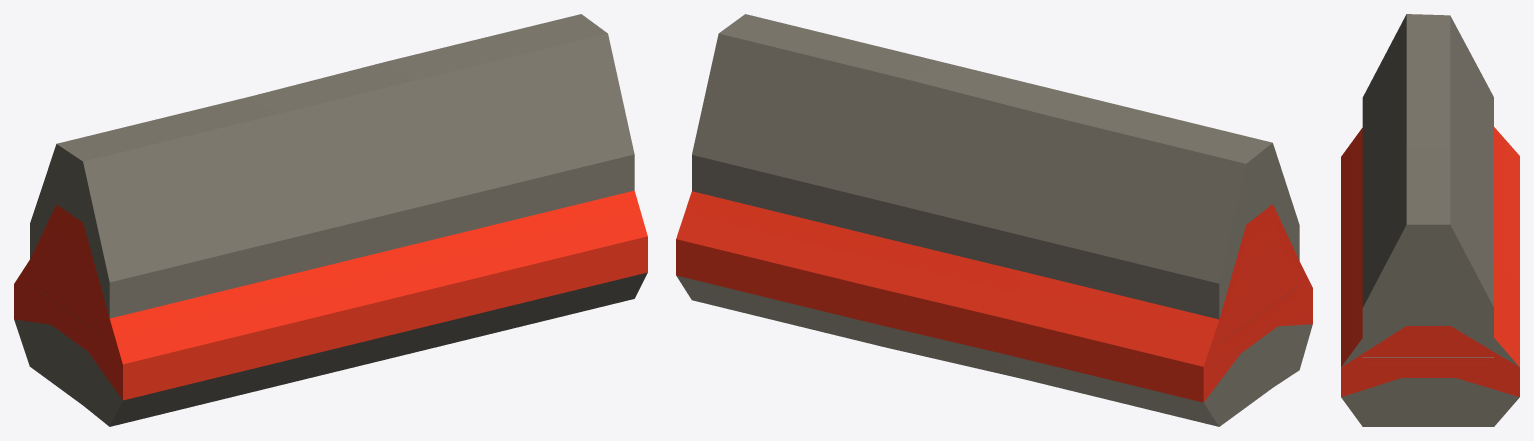
File: valla.fbx
3 renders of one model, left to right at view 1: azimuth 30°, elevation 25°; view 2: azimuth 150°, elevation 25°; view 3: azimuth 270°, elevation 25°, orthographic. The views are drawn at different scales.
Visible parts, largest first — view 1: Cube; view 2: Cube; view 3: Cube.
Boxes of the visible parts, <box> form: Cube: <box>14,14,647,426</box>; Cube: <box>676,14,1312,426</box>; Cube: <box>1341,14,1519,426</box>.
Size of the model in its own units: 760 by 340 by 272.
Materials: 1 (1 with a texture image).
